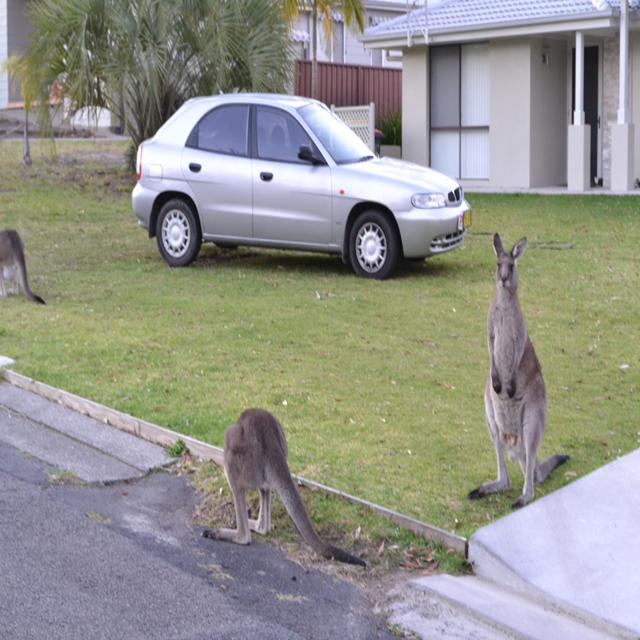kangaroo: (485, 230, 552, 503), (207, 405, 305, 553), (1, 219, 45, 306)
